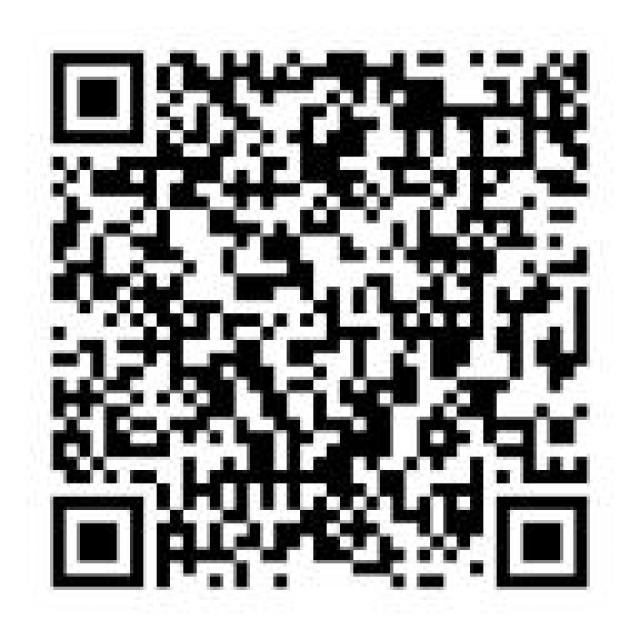QR_CODE: (40, 38, 598, 600)
